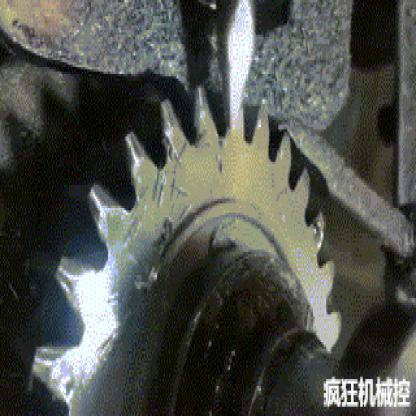FOD: (24, 81, 344, 414)
